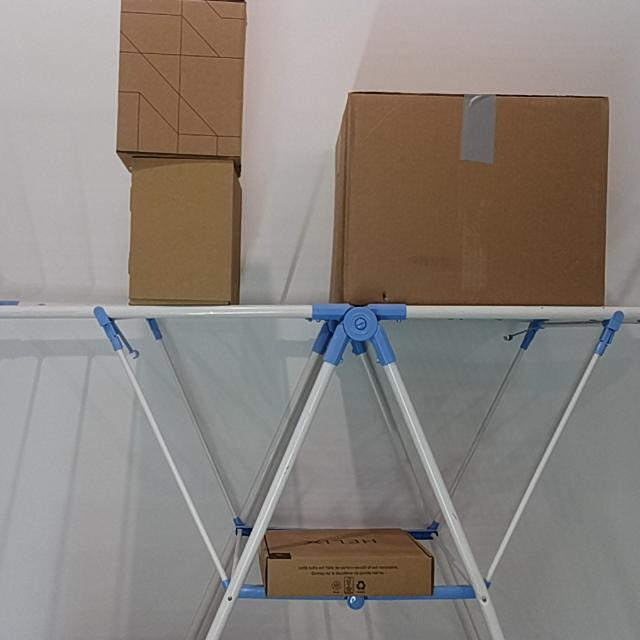box: (348, 92, 607, 302), (118, 0, 245, 152), (130, 159, 234, 304), (267, 557, 434, 598)
